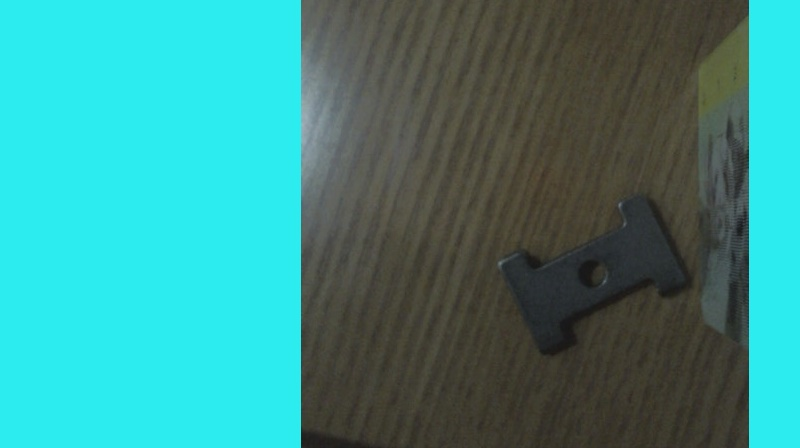O002: (494, 192, 690, 357)
